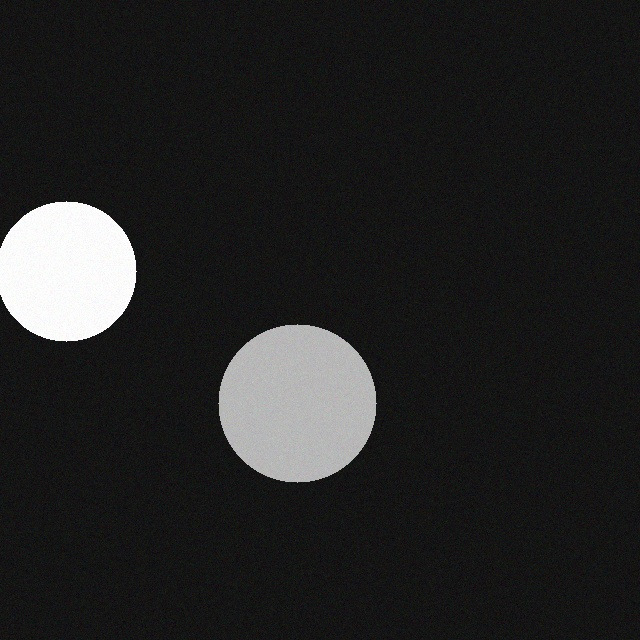circle: (230, 322, 388, 480), (8, 199, 148, 339)
